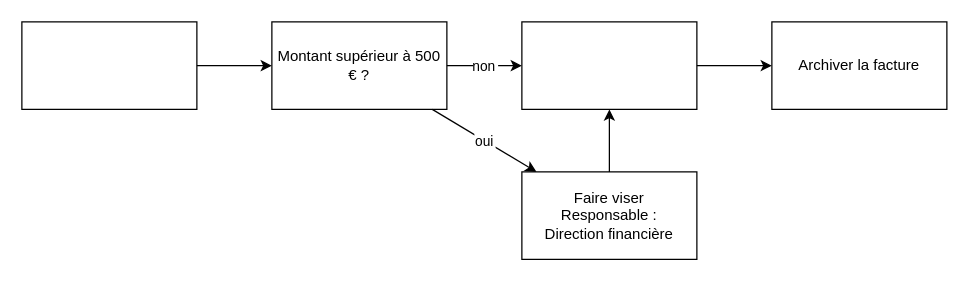
This 969x281 diagram has some shape labels left out. The box of each missing label's shape, as (x1, y1, x2, y2) in pixels:
Payer Responsable : comptabilité 2 jours: (521, 21, 697, 109)
Recevoir la facture Responsable : Comptabilité: (21, 21, 197, 109)
